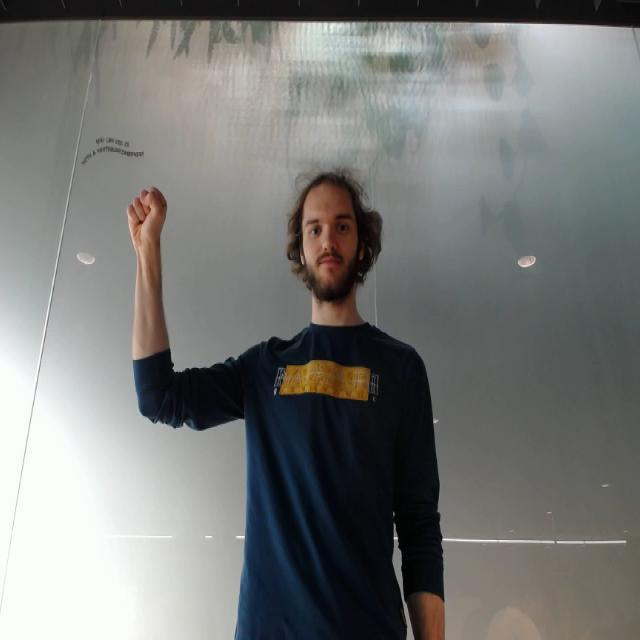stop: (119, 186, 178, 243)
